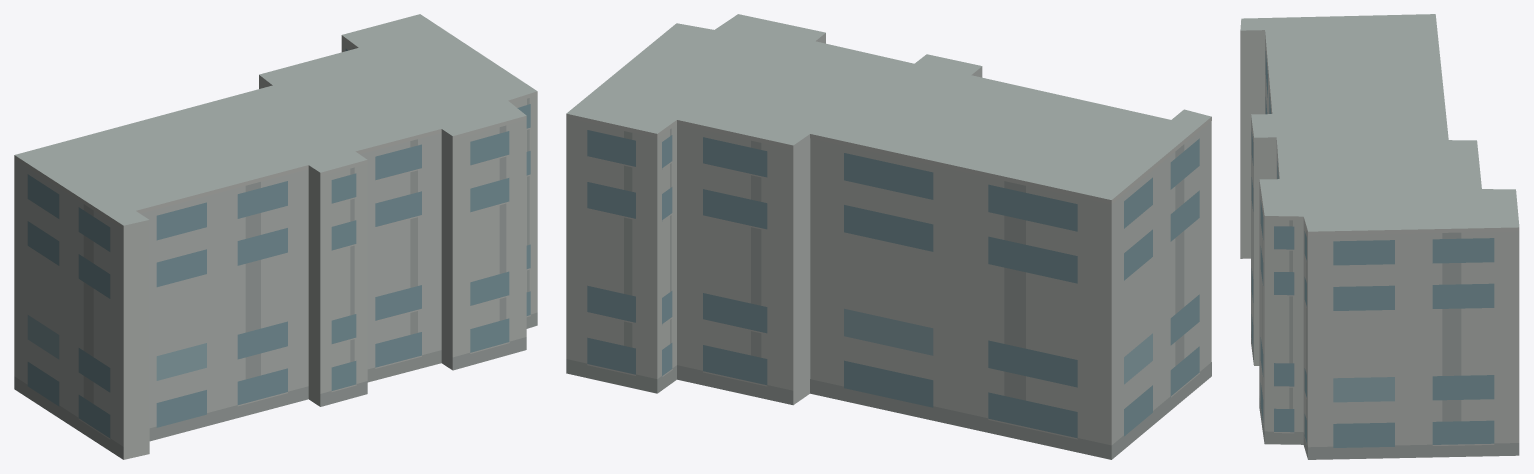
Rendered from survey-upis-32742946.glb.
3 renders of one model, left to right at view 1: azimuth 30°, elevation 25°; view 2: azimuth 150°, elevation 25°; view 3: azimuth 270°, elevation 25°, orthographic. The views are drawn at different scales.
Parts seen in each view (by area): view 1: survey-upis-32742946.tmp; view 2: survey-upis-32742946.tmp; view 3: survey-upis-32742946.tmp.
Part boxes in pixels (<box>): survey-upis-32742946.tmp: <box>14,14,537,459</box>; survey-upis-32742946.tmp: <box>566,14,1211,459</box>; survey-upis-32742946.tmp: <box>1240,14,1519,459</box>.
Size of the model in its own units: 28.74 by 14.05 by 15.58.
